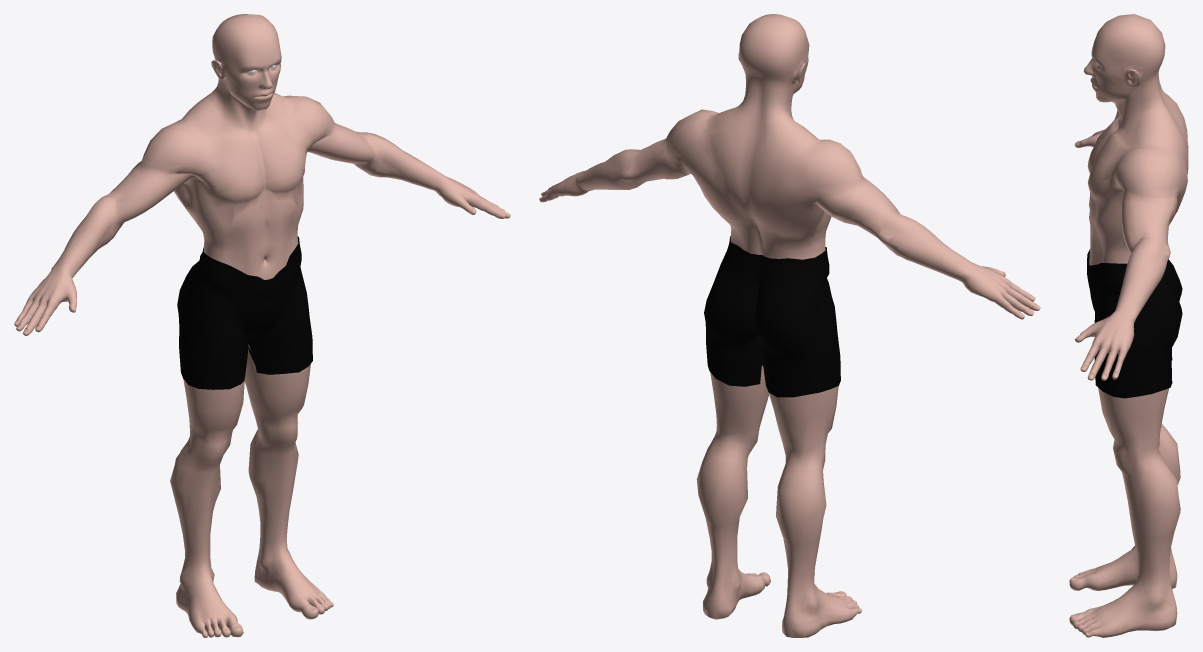
File: Player1.fbx
The picture shows the model from 3 angles, left to right: view 1: azimuth 30°, elevation 25°; view 2: azimuth 150°, elevation 25°; view 3: azimuth 270°, elevation 25°; orthographic projection.
Visible parts, largest first — view 1: Body_M_GeoRndr, Body_M_GeoRndr.001; view 2: Body_M_GeoRndr, Body_M_GeoRndr.001; view 3: Body_M_GeoRndr, Body_M_GeoRndr.001.
Boxes of the visible parts, box(x1,y1,x2,y2) form: Body_M_GeoRndr: box(14, 14, 510, 637); Body_M_GeoRndr.001: box(177, 236, 312, 389); Body_M_GeoRndr: box(539, 14, 1040, 637); Body_M_GeoRndr.001: box(704, 236, 840, 397); Body_M_GeoRndr: box(1069, 14, 1188, 637); Body_M_GeoRndr.001: box(1087, 249, 1182, 398).
Bounding box in the file's own units: 1596 × 1849 × 338.
